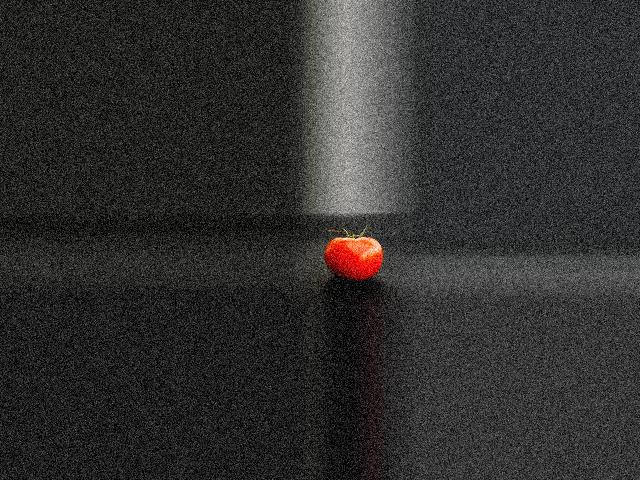tomato: (325, 237, 383, 281)
